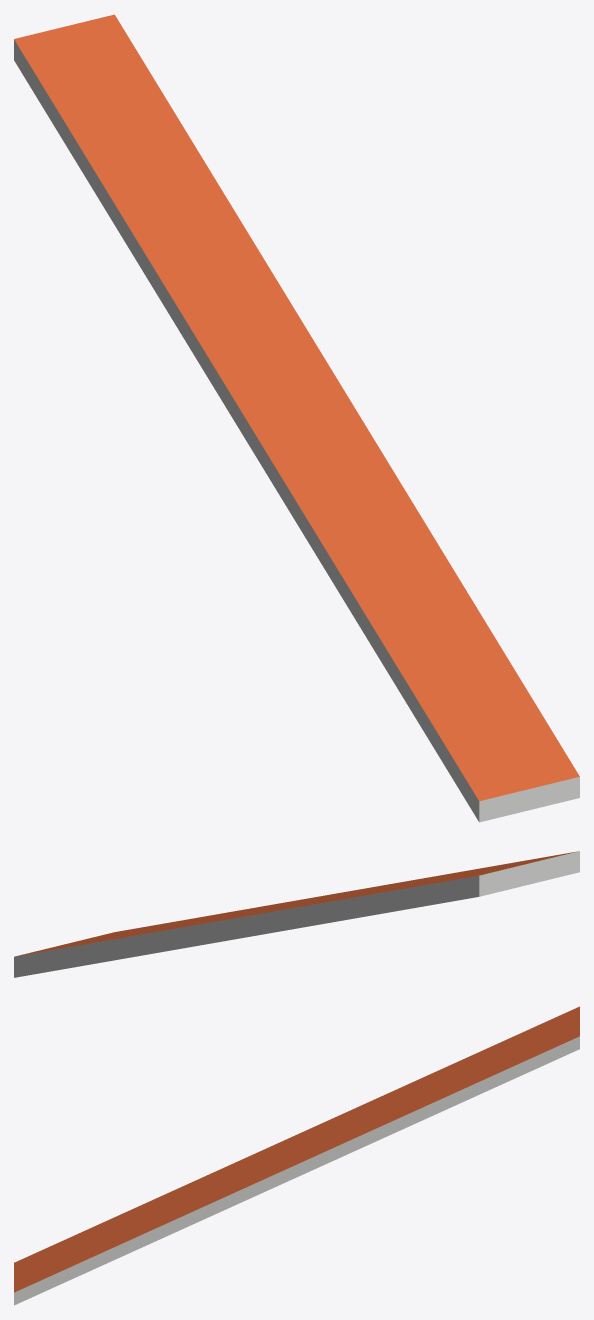
Rendered from telhado_meia_agua_v4_i50_0_5m.glb.
3 renders of one model, top to bottom at view 1: azimuth 30°, elevation 25°; view 2: azimuth 210°, elevation 25°; view 3: azimuth 270°, elevation 25°, orthographic. The views are drawn at different scales.
Parts seen in each view (by area): view 1: telhado_meia_agua_v4_i50_0_5m; view 2: telhado_meia_agua_v4_i50_0_5m; view 3: telhado_meia_agua_v4_i50_0_5m.
Boxes of the visible parts, bbox=[...] form: telhado_meia_agua_v4_i50_0_5m: bbox=[14, 14, 579, 822]; telhado_meia_agua_v4_i50_0_5m: bbox=[14, 851, 579, 977]; telhado_meia_agua_v4_i50_0_5m: bbox=[14, 1006, 579, 1305].
Size of the model in its own units: 0.5 by 2.1 by 4.
